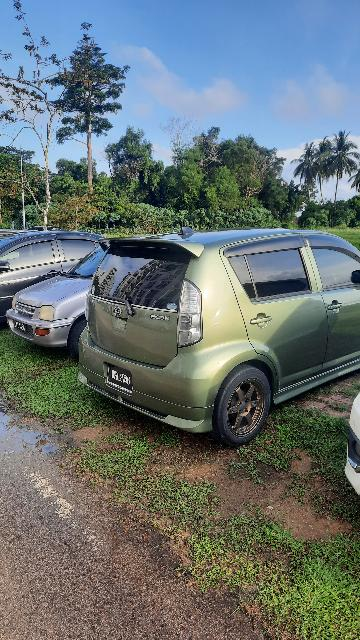License_Plate: (99, 359, 144, 399), (10, 319, 36, 336)
car: (78, 223, 360, 439), (4, 243, 160, 354)
